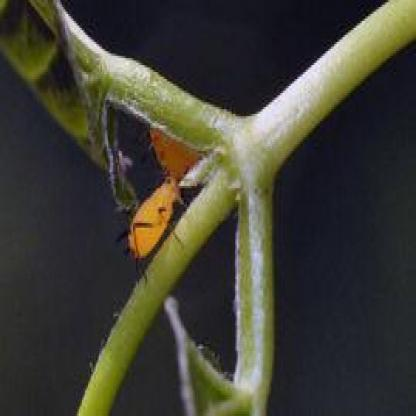aphid: (123, 163, 185, 272)
